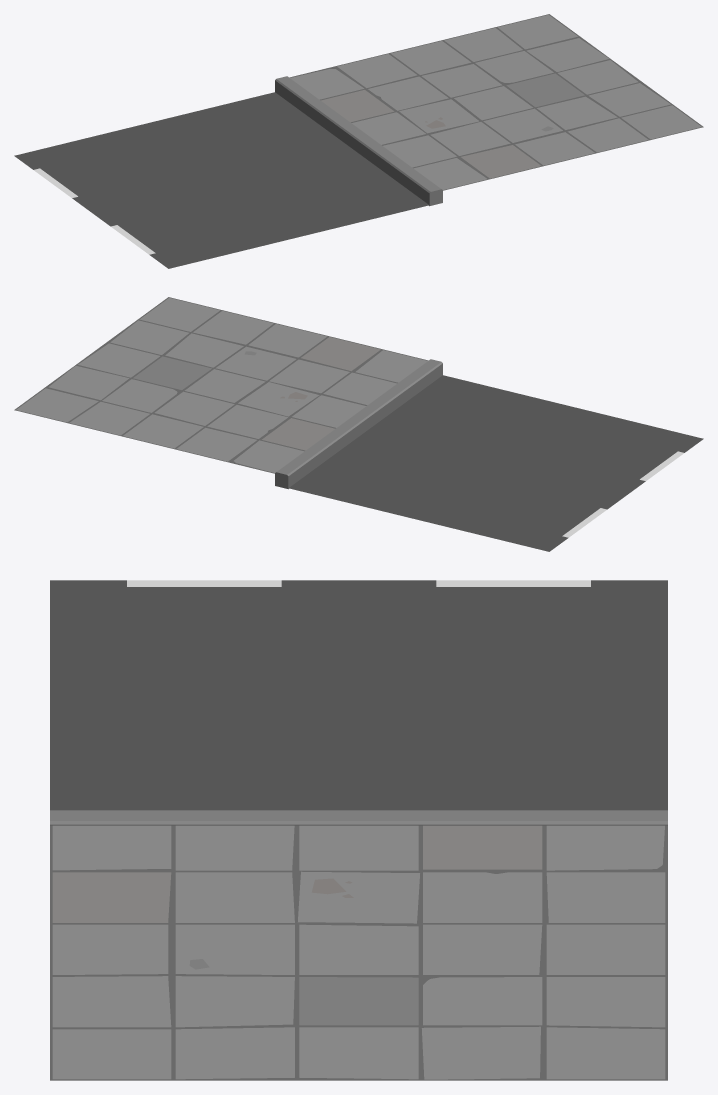
File: Road_03.glb
3 views of the same model, one above another, from view 1: azimuth 30°, elevation 25°; view 2: azimuth 150°, elevation 25°; view 3: azimuth 270°, elevation 25° (orthographic). The views are drawn at different scales.
Visible parts, largest first — view 1: Road_03; view 2: Road_03; view 3: Road_03.
Part boxes in pixels (<box>): Road_03: <box>14,14,703,268</box>; Road_03: <box>14,297,703,551</box>; Road_03: <box>50,580,667,1080</box>.
Size of the model in its own units: 6 by 0.15 by 3.
1 material, 1 textured.
